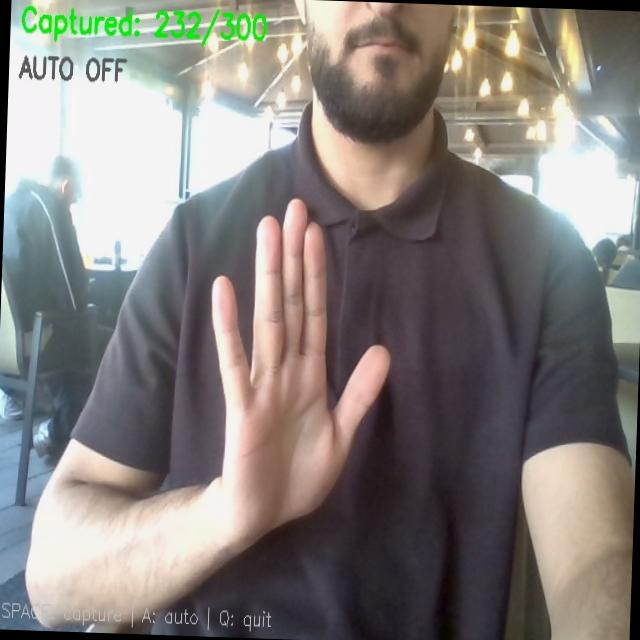Hand: (212, 199, 389, 543)
